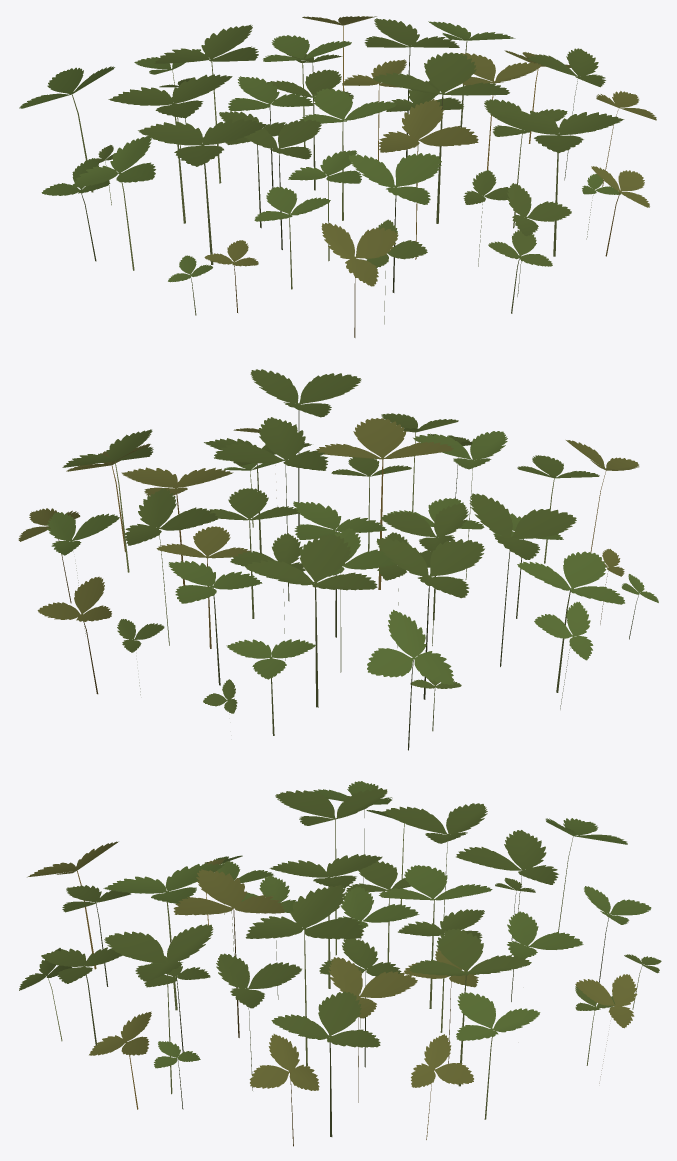
The model's file is Strawberry_Cluster_3.fbx.
3 renders of one model, top to bottom at view 1: azimuth 30°, elevation 25°; view 2: azimuth 150°, elevation 25°; view 3: azimuth 270°, elevation 25°, orthographic. The views are drawn at different scales.
Parts seen in each view (by area): view 1: Strawberry_Cluster_3; view 2: Strawberry_Cluster_3; view 3: Strawberry_Cluster_3.
Boxes of the visible parts, x1=… form: Strawberry_Cluster_3: x1=19, y1=16, x2=656, y2=337; Strawberry_Cluster_3: x1=18, y1=369, x2=658, y2=750; Strawberry_Cluster_3: x1=19, y1=781, x2=661, y2=1146.
Bounding box in the file's own units: 158 × 40.39 × 151.
1 material, 1 textured.
